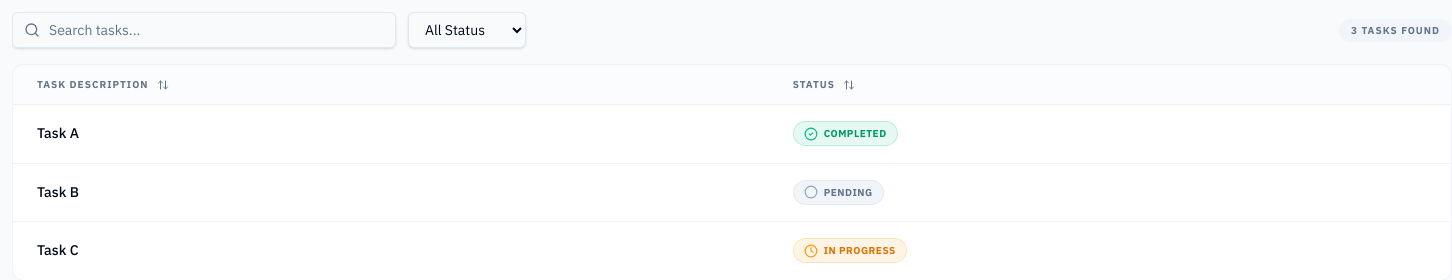
Test case: TaskTable › should filter tasks by status
Select "Completed" in the dropdown: (467, 30) [408, 12, 526, 48]
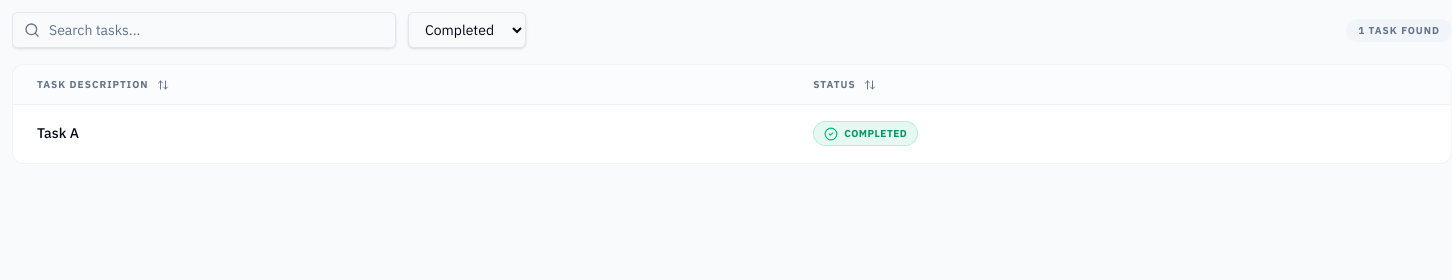
Expected: the text "Task A" is shown, [13, 104, 789, 162]
Expected: the text "Task B" is gone
